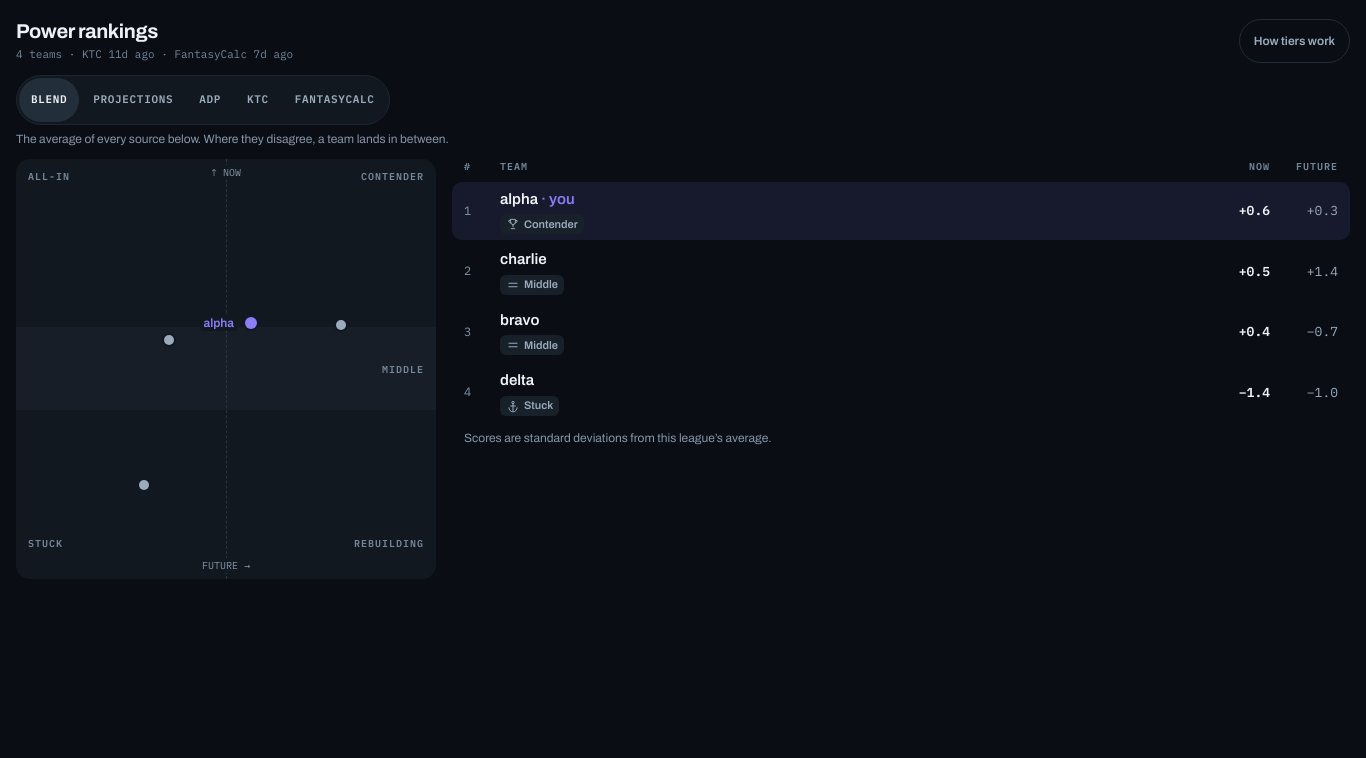
it: PowerRankingsPanel › a team, opened › says the position bars are unavailable, and shows the rest, when strengths fail
The width and height of the screenshot is (1366, 758).
Click the button "2 charlie Middle +0.5 +1.4" at (523, 259), box [452,242,1350,300]
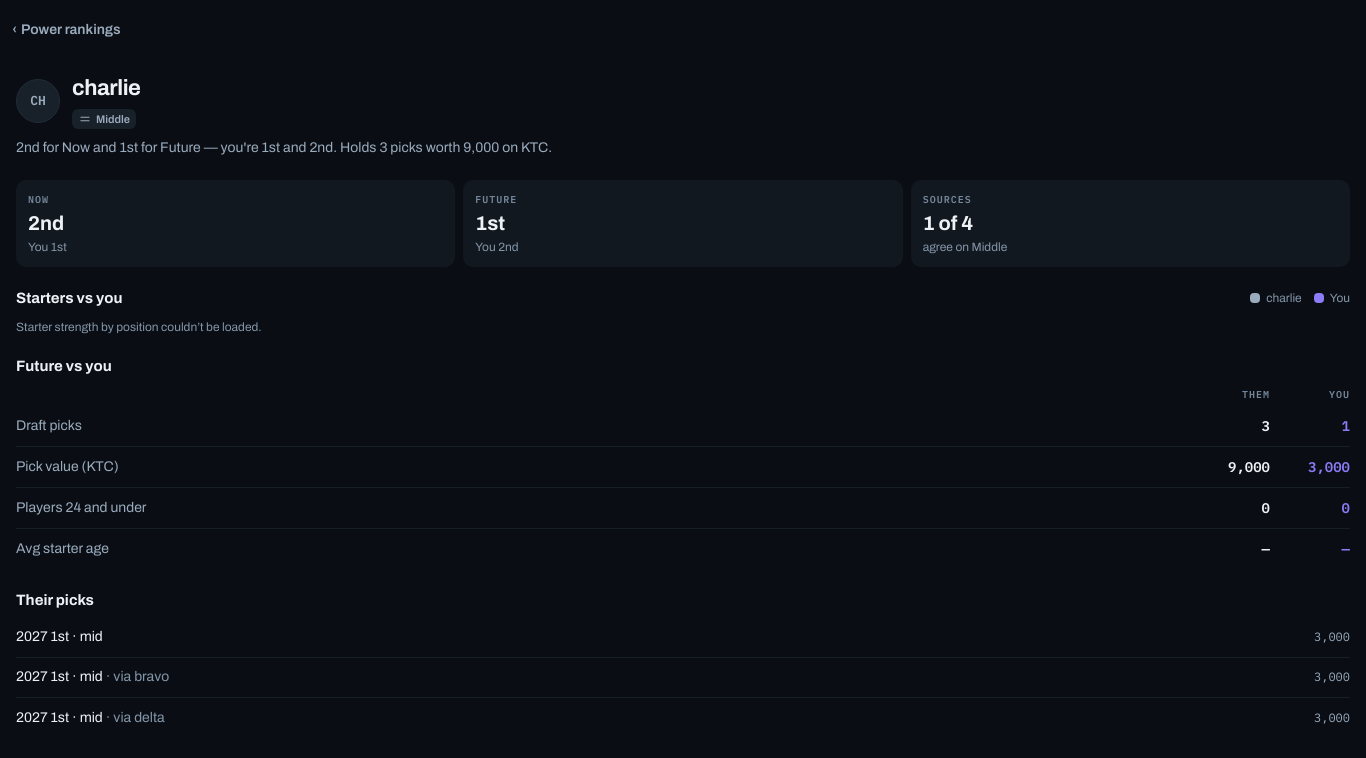
Result: the text "Starter strength by position couldn’t be loaded." is shown at [16,320,262,334]
Result: the heading "Their picks" is shown at [16,592,94,608]
